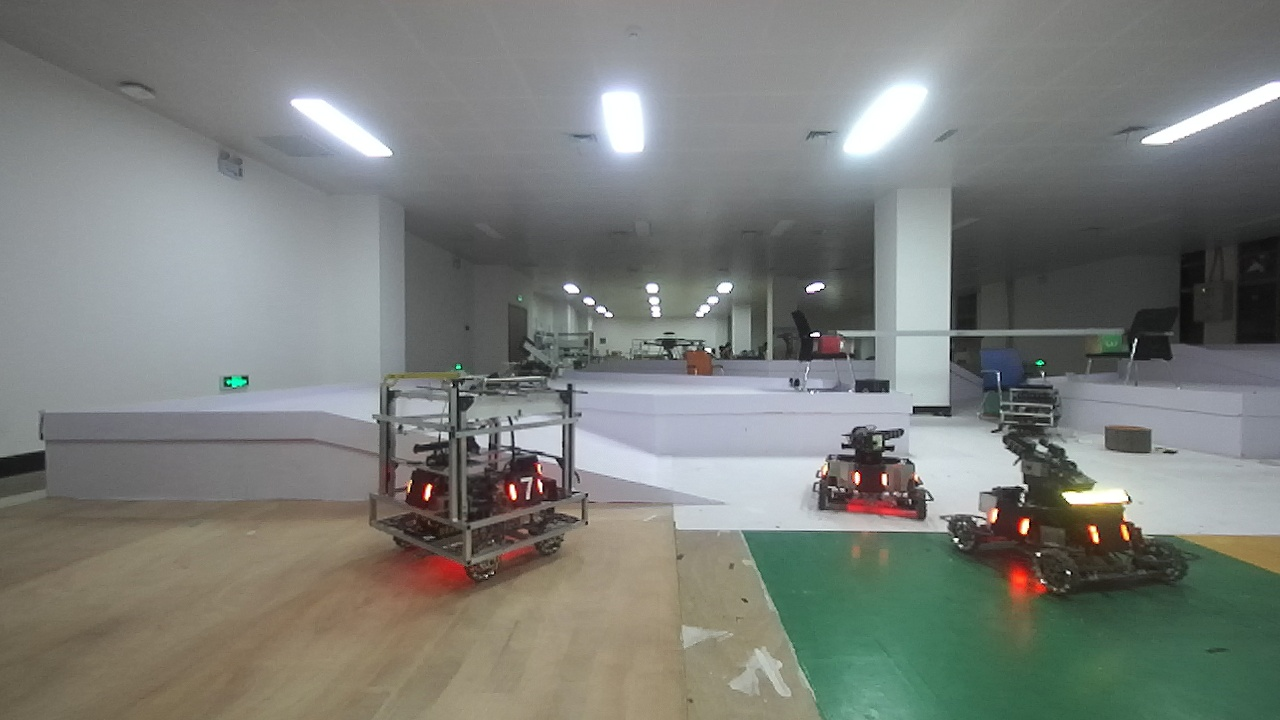car: (938, 415, 1197, 608), (367, 366, 594, 585), (806, 411, 933, 529)
